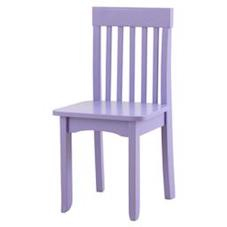chair: (41, 7, 196, 223)
